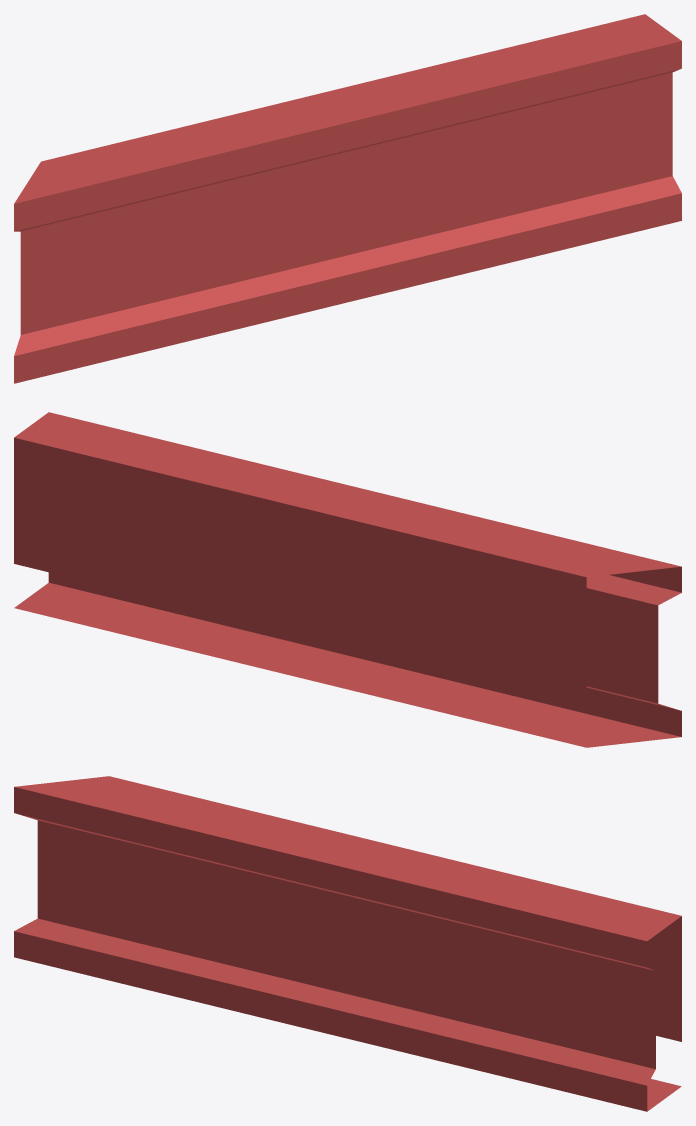
The model's file is Cornice_Small_Metal_L.gltf.
3 renders of one model, top to bottom at view 1: azimuth 30°, elevation 25°; view 2: azimuth 150°, elevation 25°; view 3: azimuth 330°, elevation 25°, orthographic. The views are drawn at different scales.
Parts seen in each view (by area): view 1: Cornice_Small_Metal_L; view 2: Cornice_Small_Metal_L; view 3: Cornice_Small_Metal_L.
Boxes of the visible parts, <box> form: Cornice_Small_Metal_L: <box>14,14,681,383</box>; Cornice_Small_Metal_L: <box>14,412,681,747</box>; Cornice_Small_Metal_L: <box>14,776,681,1111</box>.
Size of what is drawn, in the model's own units: 2.1 by 0.5403 by 0.2.
